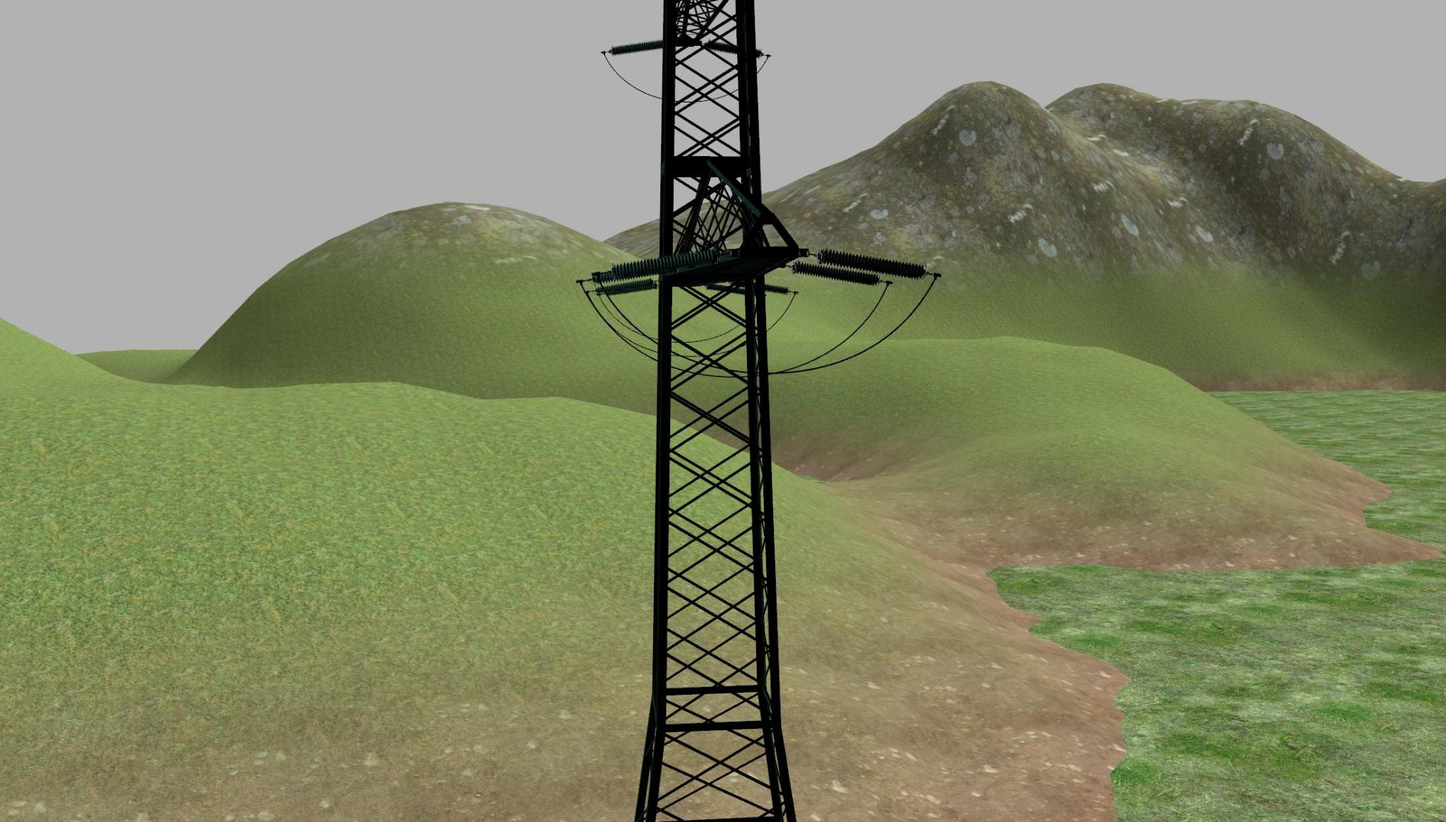tower: (636, 0, 800, 822)
